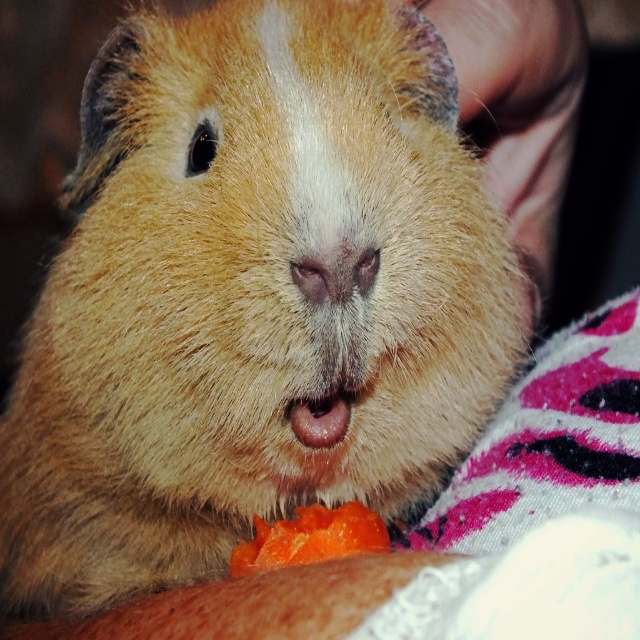Hamster: (0, 0, 539, 609)
